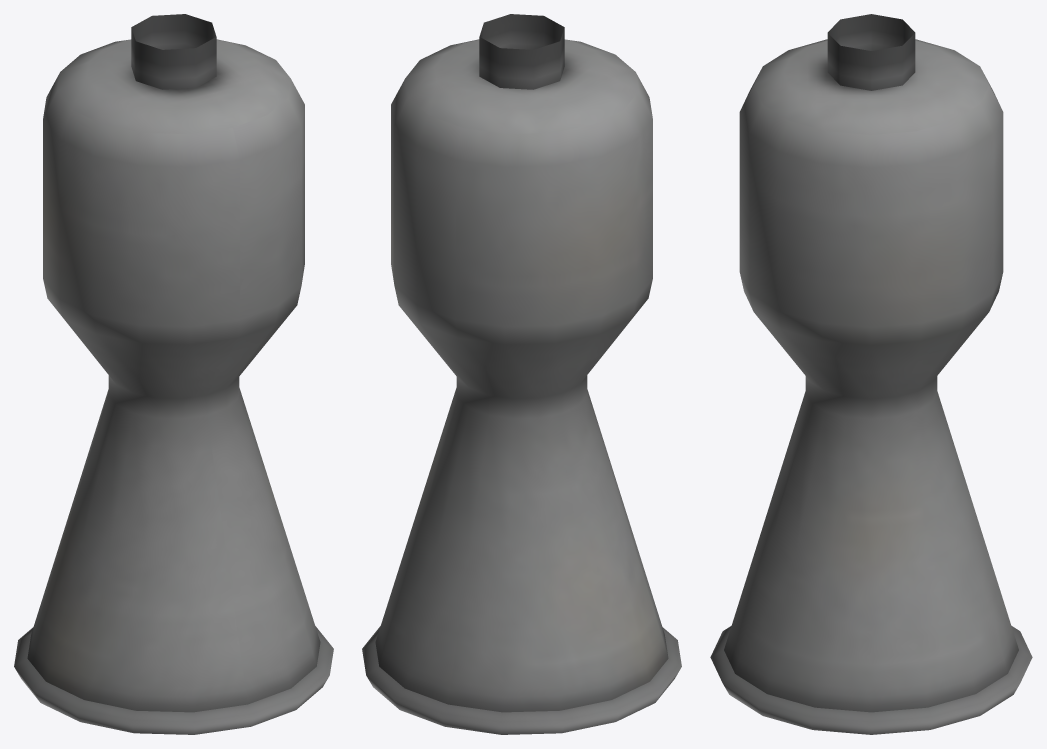
File: Knight_Engine_0_1_Nozzle.obj
3 renders of one model, left to right at view 1: azimuth 30°, elevation 25°; view 2: azimuth 150°, elevation 25°; view 3: azimuth 270°, elevation 25°, orthographic.
Parts seen in each view (by area): view 1: Knight_Engine_0_1_Nozzle; view 2: Knight_Engine_0_1_Nozzle; view 3: Knight_Engine_0_1_Nozzle.
Boxes of the visible parts, x1,y1,x2,y2 form: Knight_Engine_0_1_Nozzle: (14, 14, 333, 734); Knight_Engine_0_1_Nozzle: (362, 14, 681, 734); Knight_Engine_0_1_Nozzle: (710, 14, 1032, 734).
Bounding box in the file's own units: 0.1832 × 0.4 × 0.1832.
